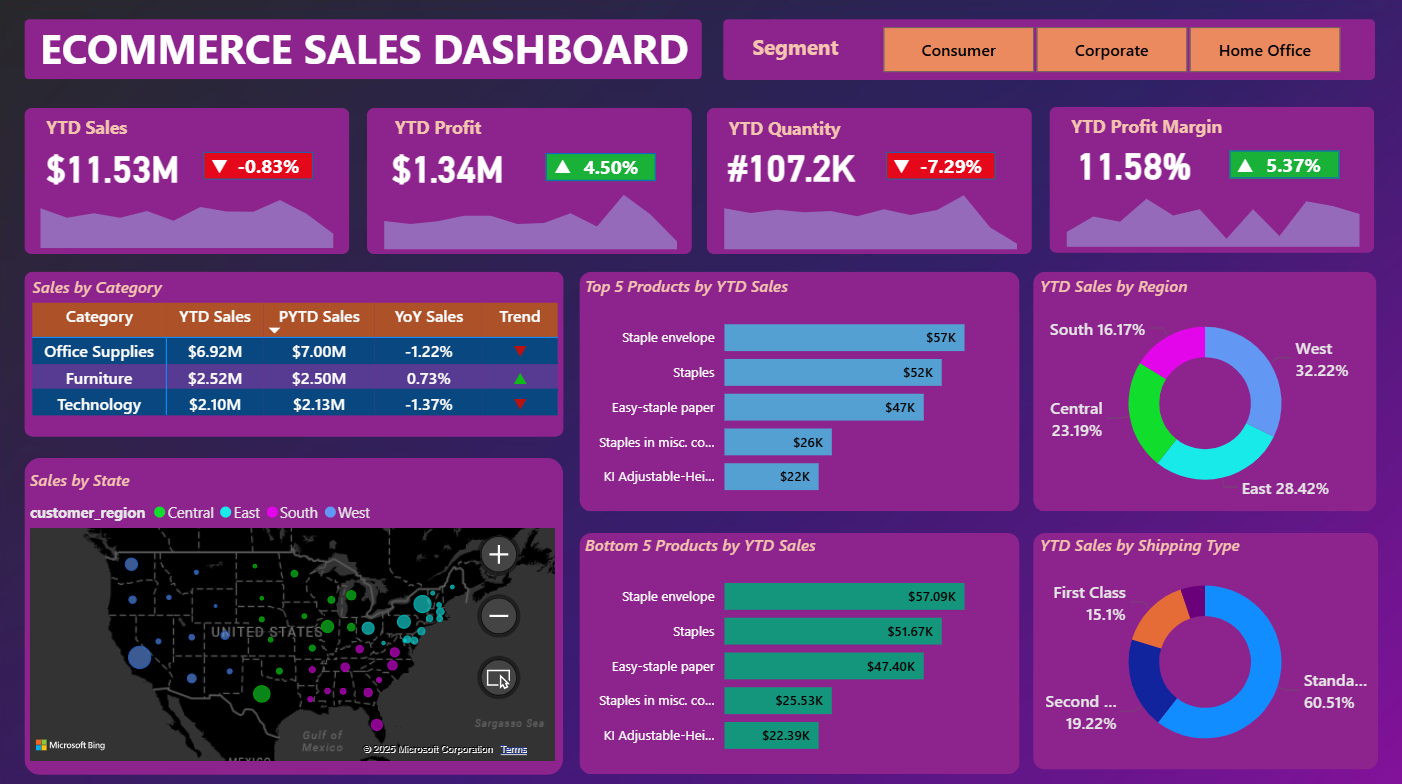

Layout of this report page (visuals, bound fields, positions):
{"tool":"powerbi","page":{"name":"Page 1","canvas":[1280,720],"ordinal":0},"visuals":[{"type":"shape","box":[25,18.8,615.6,54.7],"z":0},{"type":"textbox","box":[34.3,14.9,616.4,65.7],"z":1000},{"type":"shape","box":[25,100,295.3,132.8],"z":2000},{"type":"shape","box":[188.1,140.3,100,25.4],"z":3000},{"type":"card","fields":{"Values":["ecommerce_data.YTD Sales"]},"box":[28.4,129.9,153.7,47.8],"z":4000},{"type":"areaChart","fields":{"Y":["Sum(ecommerce_data.sales_per_order)"],"Category":["Calendar.Month"]},"box":[25.4,162.7,295.5,70.1],"z":5000},{"type":"card","fields":{"Values":["ecommerce_data.YoY Sales"]},"box":[200,140.3,94,29.9],"z":6000},{"type":"card","fields":{"Values":["ecommerce_data.Sales Icon"]},"box":[185.1,140.3,34.3,29.9],"z":7000},{"type":"textbox","box":[40.3,101.5,97,38.8],"z":8000},{"type":"shape","box":[336.2,100.1,295.3,132.8],"z":9000},{"type":"shape","box":[499.3,140.4,100,25.4],"z":10000},{"type":"card","fields":{"Values":["ecommerce_data.YTD Profit"]},"box":[333.2,129.5,153.7,47.8],"z":11000},{"type":"areaChart","fields":{"Category":["Calendar.Month"],"Y":["Sum(ecommerce_data.profit_per_order)"]},"box":[337,163.2,295.5,70.1],"z":12000},{"type":"card","fields":{"Values":["ecommerce_data.YoY Profit"]},"box":[511.2,140.4,94,29.9],"z":13000},{"type":"card","fields":{"Values":["ecommerce_data.Profit Icon"]},"box":[498.8,140,31.3,29.9],"z":14000},{"type":"textbox","box":[356.7,101.5,97,38.8],"z":15000},{"type":"shape","box":[645.3,100,295.3,132.8],"z":16000},{"type":"shape","box":[808.4,140.3,100,25.4],"z":17000},{"type":"card","fields":{"Values":["ecommerce_data.YTD Concatenated Qty"]},"box":[645.1,128.7,153.7,47.8],"z":18000},{"type":"areaChart","fields":{"Category":["Calendar.Month"],"Y":["Sum(ecommerce_data.order_quantity)"]},"box":[646.1,163.1,295.5,70.1],"z":19000},{"type":"card","fields":{"Values":["ecommerce_data.YoY Quantity"]},"box":[820.3,140.3,94,29.9],"z":20000},{"type":"card","fields":{"Values":["ecommerce_data.Quantity Icon"]},"box":[807.3,140.2,31.3,29.9],"z":21000},{"type":"textbox","box":[660,101.8,119.4,38.8],"z":22000},{"type":"shape","box":[957.2,98.5,295.3,132.8],"z":23000},{"type":"shape","box":[1120.3,138.8,100,25.4],"z":24000},{"type":"card","fields":{"Values":["ecommerce_data.YTD Profit Margin"]},"box":[957,127.2,153.7,47.8],"z":25000},{"type":"areaChart","fields":{"Category":["Calendar.Month"],"Y":["ecommerce_data.Profit Margin"]},"box":[958,161.6,295.5,70.1],"z":26000},{"type":"card","fields":{"Values":["ecommerce_data.YoY Profit Margin"]},"box":[1132.2,138.8,94,29.9],"z":27000},{"type":"card","fields":{"Values":["ecommerce_data.Profit Margin Icon"]},"box":[1119.5,138.3,31.3,29.9],"z":28000},{"type":"textbox","box":[971.8,99.5,164.2,38.8],"z":29000},{"type":"shape","box":[25.4,249.3,490,150],"z":30000},{"type":"pivotTable","title":"Sales by Category","fields":{"Rows":["ecommerce_data.category_name"],"Values":["ecommerce_data.YTD Sales","ecommerce_data.PYTD Sales","ecommerce_data.YoY Sales","ecommerce_data.Sales Icon"]},"box":[26.9,252.2,489.6,147.8],"z":31000},{"type":"shape","box":[25.4,417.9,489.6,288.1],"z":32000},{"type":"map","title":"Sales by State","fields":{"Y":["us_state_long_lat_codes.latitude"],"X":["us_state_long_lat_codes.longitude"],"Size":["ecommerce_data.YTD Sales"],"Series":["ecommerce_data.customer_region"]},"box":[25.4,426.9,486.6,271.6],"z":33000},{"type":"shape","box":[529.9,249.3,400,217.9],"z":34000},{"type":"shape","box":[529.9,486.6,400,219.4],"z":35000},{"type":"barChart","title":"Top 5 Products by YTD Sales","fields":{"Category":["ecommerce_data.product_name"],"Y":["ecommerce_data.YTD Sales"]},"box":[529.9,250.7,400,214.9],"z":36000},{"type":"barChart","title":"Bottom 5 Products by YTD Sales","fields":{"Category":["ecommerce_data.product_name"],"Y":["ecommerce_data.YTD Sales"]},"box":[529.9,486.6,400,214.9],"z":37000},{"type":"shape","box":[941.8,249.3,311.9,217.9],"z":38000},{"type":"shape","box":[941.8,486.6,313.4,214.9],"z":39000},{"type":"donutChart","title":"YTD Sales by Region","fields":{"Category":["ecommerce_data.customer_region"],"Y":["ecommerce_data.YTD Sales"]},"box":[943.3,250.7,310.4,214.9],"z":40000},{"type":"donutChart","title":"YTD Sales by Shipping Type","fields":{"Y":["ecommerce_data.YTD Sales"],"Category":["ecommerce_data.shipping_type"]},"box":[943.3,486.6,310.4,214.9],"z":41000},{"type":"shape","box":[659.7,19.4,592.5,55.2],"z":42000},{"type":"slicer","fields":{"Values":["ecommerce_data.customer_segment"]},"box":[779.1,19.4,465.7,55.2],"z":43000},{"type":"textbox","box":[682.1,26.9,97,37.3],"z":43001}]}

Visuals, with their boxes in screenshot pixels (x1, y1, x2, y2), scaled from the page's 1280x720 canvas onto the 1402x784 screenshot:
shape: Rect(27, 20, 702, 80)
textbox: Rect(38, 16, 713, 88)
shape: Rect(27, 109, 351, 253)
shape: Rect(206, 153, 316, 180)
card - ecommerce_data.YTD Sales: Rect(31, 141, 199, 193)
areaChart - Sum(ecommerce_data.sales_per_order) x Calendar.Month: Rect(28, 177, 351, 253)
card - ecommerce_data.YoY Sales: Rect(219, 153, 322, 185)
card - ecommerce_data.Sales Icon: Rect(203, 153, 240, 185)
textbox: Rect(44, 111, 150, 153)
shape: Rect(368, 109, 692, 254)
shape: Rect(547, 153, 656, 181)
card - ecommerce_data.YTD Profit: Rect(365, 141, 533, 193)
areaChart - Calendar.Month x Sum(ecommerce_data.profit_per_order): Rect(369, 178, 693, 254)
card - ecommerce_data.YoY Profit: Rect(560, 153, 663, 185)
card - ecommerce_data.Profit Icon: Rect(546, 152, 581, 185)
textbox: Rect(391, 111, 497, 153)
shape: Rect(707, 109, 1030, 253)
shape: Rect(885, 153, 995, 180)
card - ecommerce_data.YTD Concatenated Qty: Rect(707, 140, 875, 192)
areaChart - Calendar.Month x Sum(ecommerce_data.order_quantity): Rect(708, 178, 1031, 254)
card - ecommerce_data.YoY Quantity: Rect(898, 153, 1001, 185)
card - ecommerce_data.Quantity Icon: Rect(884, 153, 919, 185)
textbox: Rect(723, 111, 854, 153)
shape: Rect(1048, 107, 1372, 252)
shape: Rect(1227, 151, 1337, 179)
card - ecommerce_data.YTD Profit Margin: Rect(1048, 139, 1217, 191)
areaChart - Calendar.Month x ecommerce_data.Profit Margin: Rect(1049, 176, 1373, 252)
card - ecommerce_data.YoY Profit Margin: Rect(1240, 151, 1343, 184)
card - ecommerce_data.Profit Margin Icon: Rect(1226, 151, 1260, 183)
textbox: Rect(1064, 108, 1244, 151)
shape: Rect(28, 271, 565, 435)
"Sales by Category" pivotTable: Rect(29, 275, 566, 436)
shape: Rect(28, 455, 564, 769)
"Sales by State" map: Rect(28, 465, 561, 761)
shape: Rect(580, 271, 1019, 509)
shape: Rect(580, 530, 1019, 769)
"Top 5 Products by YTD Sales" barChart: Rect(580, 273, 1019, 507)
"Bottom 5 Products by YTD Sales" barChart: Rect(580, 530, 1019, 764)
shape: Rect(1032, 271, 1373, 509)
shape: Rect(1032, 530, 1375, 764)
"YTD Sales by Region" donutChart: Rect(1033, 273, 1373, 507)
"YTD Sales by Shipping Type" donutChart: Rect(1033, 530, 1373, 764)
shape: Rect(723, 21, 1372, 81)
slicer - ecommerce_data.customer_segment: Rect(853, 21, 1363, 81)
textbox: Rect(747, 29, 853, 70)
